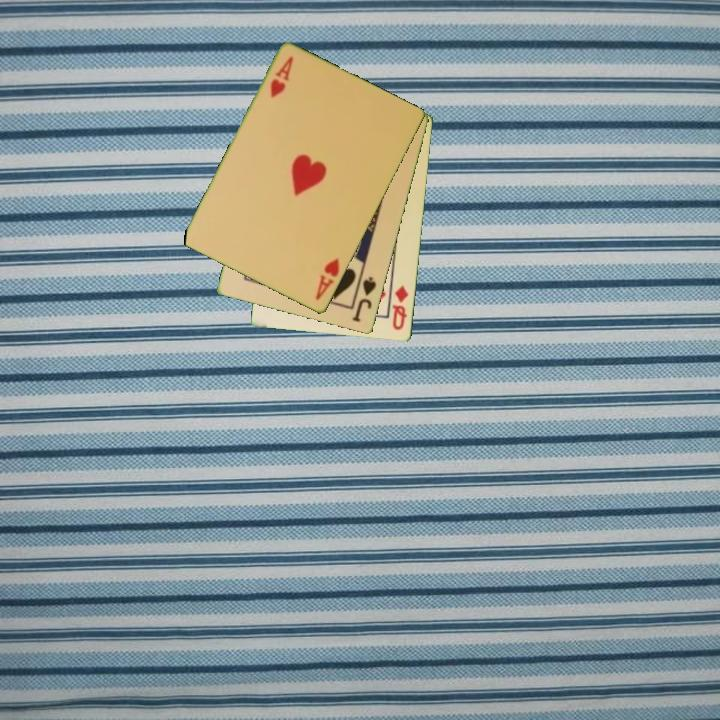Ah: (312, 255, 343, 303), (267, 53, 296, 101)
Js: (349, 273, 379, 325)
Qd: (389, 282, 412, 333)
